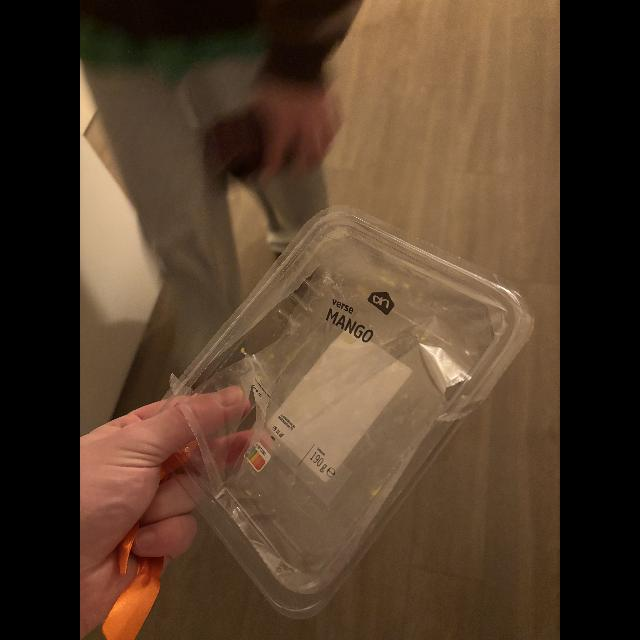Plastic: (161, 166, 534, 620), (80, 513, 170, 633)
